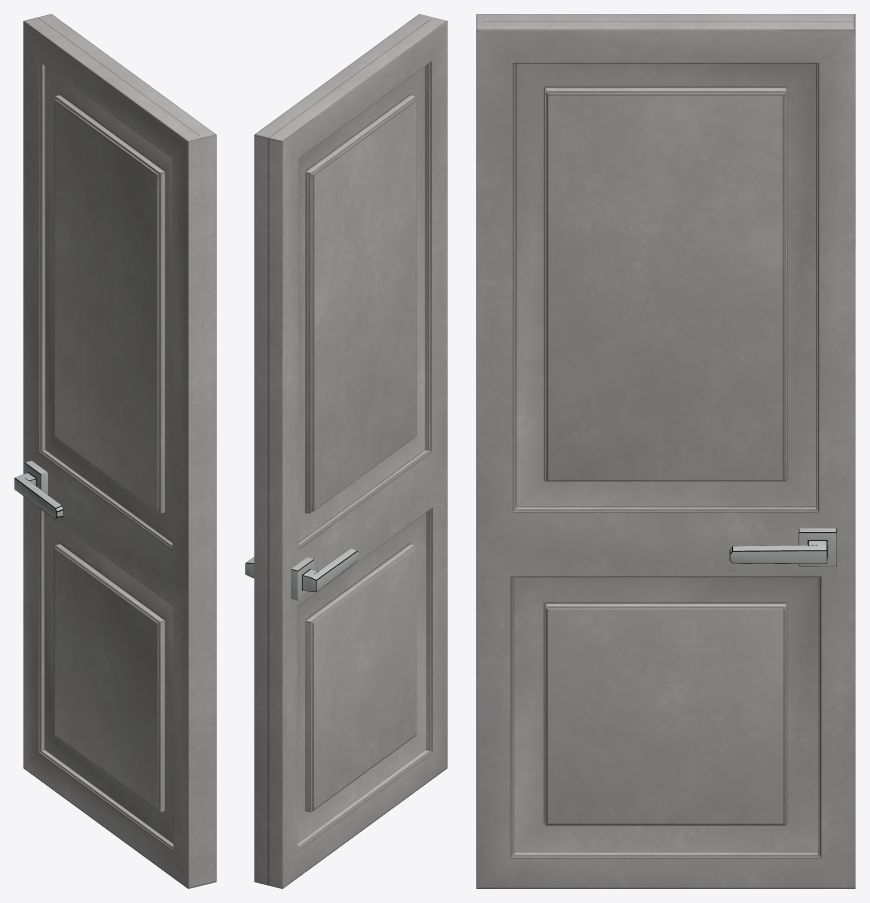
The model's file is door.glb.
3 renders of one model, left to right at view 1: azimuth 30°, elevation 25°; view 2: azimuth 150°, elevation 25°; view 3: azimuth 270°, elevation 25°, orthographic. The views are drawn at different scales.
Parts seen in each view (by area): view 1: Cube, Cube.001; view 2: Cube, Cube.001; view 3: Cube, Cube.001.
Part boxes in pixels (x1,y1,x2,y2): Cube: [23, 14, 216, 888]; Cube.001: [14, 460, 63, 518]; Cube: [254, 14, 447, 888]; Cube.001: [245, 548, 358, 600]; Cube: [476, 14, 855, 888]; Cube.001: [729, 528, 836, 566].
Size of the model in its own units: 1 by 10 by 4.
Materials: 2 (2 with a texture image).
